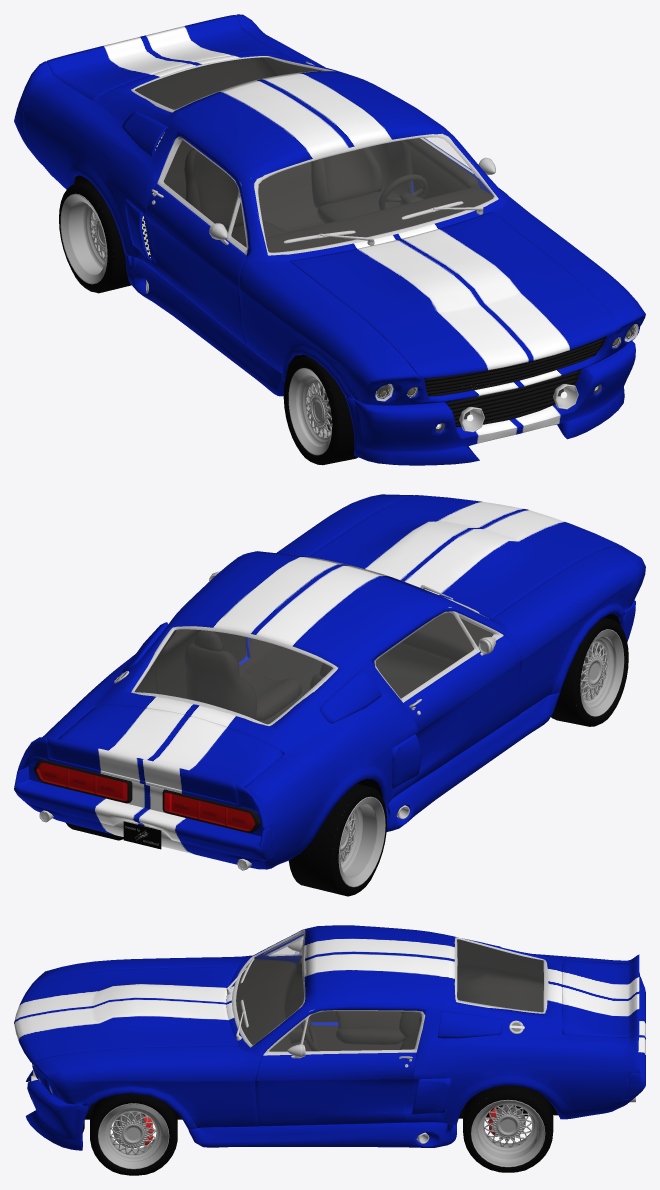
The model's file is mustang-blue.glb.
The picture shows the model from 3 angles, top to bottom: view 1: azimuth 30°, elevation 25°; view 2: azimuth 150°, elevation 25°; view 3: azimuth 270°, elevation 25°; orthographic projection. The views are drawn at different scales.
Parts seen in each view (by area): view 1: Body, Bonnet, Windscreen.002, Interior, BumperFront, Tailgate.002, Door, Seat, SideSkirt, WindowSide.002, WindscreenRear.002, GrillTop.002 (+13 smaller); view 2: Body, Bonnet, Tailgate.002, WindscreenRear.002, Door, Interior, BumperRear, Seat, WindowSide.002, SideSkirt, Tyre_low.008, TailLight_Inside.004 (+11 smaller); view 3: Body, Bonnet, DriverDoor_Door_Door_0, Interior, Tailgate.002, SideSkirt, WindscreenRear.002, DriverDoor_WindowSide.002_Glass_0, Windscreen.002, Seat, Tyre_low.008, BumperFront (+14 smaller).
Boxes of the visible parts, x1,y1,x2,y2 form: Body: [17, 14, 645, 405]; Bonnet: [290, 212, 619, 378]; Windscreen.002: [258, 137, 494, 252]; Interior: [135, 57, 493, 252]; BumperFront: [345, 341, 635, 465]; Tailgate.002: [47, 15, 281, 100]; Door: [145, 184, 246, 345]; Seat: [184, 147, 400, 243]; SideSkirt: [125, 254, 285, 396]; WindowSide.002: [161, 139, 247, 250]; WindscreenRear.002: [135, 57, 327, 108]; GrillTop.002: [424, 336, 606, 396]; Body: [17, 494, 645, 869]; Bonnet: [308, 495, 619, 618]; Tailgate.002: [47, 704, 283, 804]; WindscreenRear.002: [135, 626, 332, 723]; Door: [403, 635, 522, 782]; Interior: [134, 612, 493, 724]; BumperRear: [14, 767, 271, 859]; Seat: [184, 630, 332, 720]; WindowSide.002: [376, 613, 498, 699]; SideSkirt: [243, 659, 560, 831]; Tyre_low.008: [66, 784, 386, 896]; TailLight_Inside.004: [36, 762, 255, 830]; Body: [32, 925, 640, 1129]; Bonnet: [14, 966, 238, 1063]; DriverDoor_Door_Door_0: [255, 1052, 416, 1126]; Interior: [236, 939, 543, 1051]; Tailgate.002: [562, 956, 639, 1037]; SideSkirt: [188, 1025, 456, 1147]; WindscreenRear.002: [455, 938, 543, 1011]; DriverDoor_WindowSide.002_Glass_0: [268, 1012, 421, 1053]; Windscreen.002: [235, 933, 303, 1044]; Seat: [336, 1011, 421, 1049]; Tyre_low.008: [463, 1085, 553, 1172]; BumperFront: [25, 1070, 91, 1150].
Bounding box in the file's own units: 212 × 141 × 482.
Materials: 36 (9 with a texture image).
